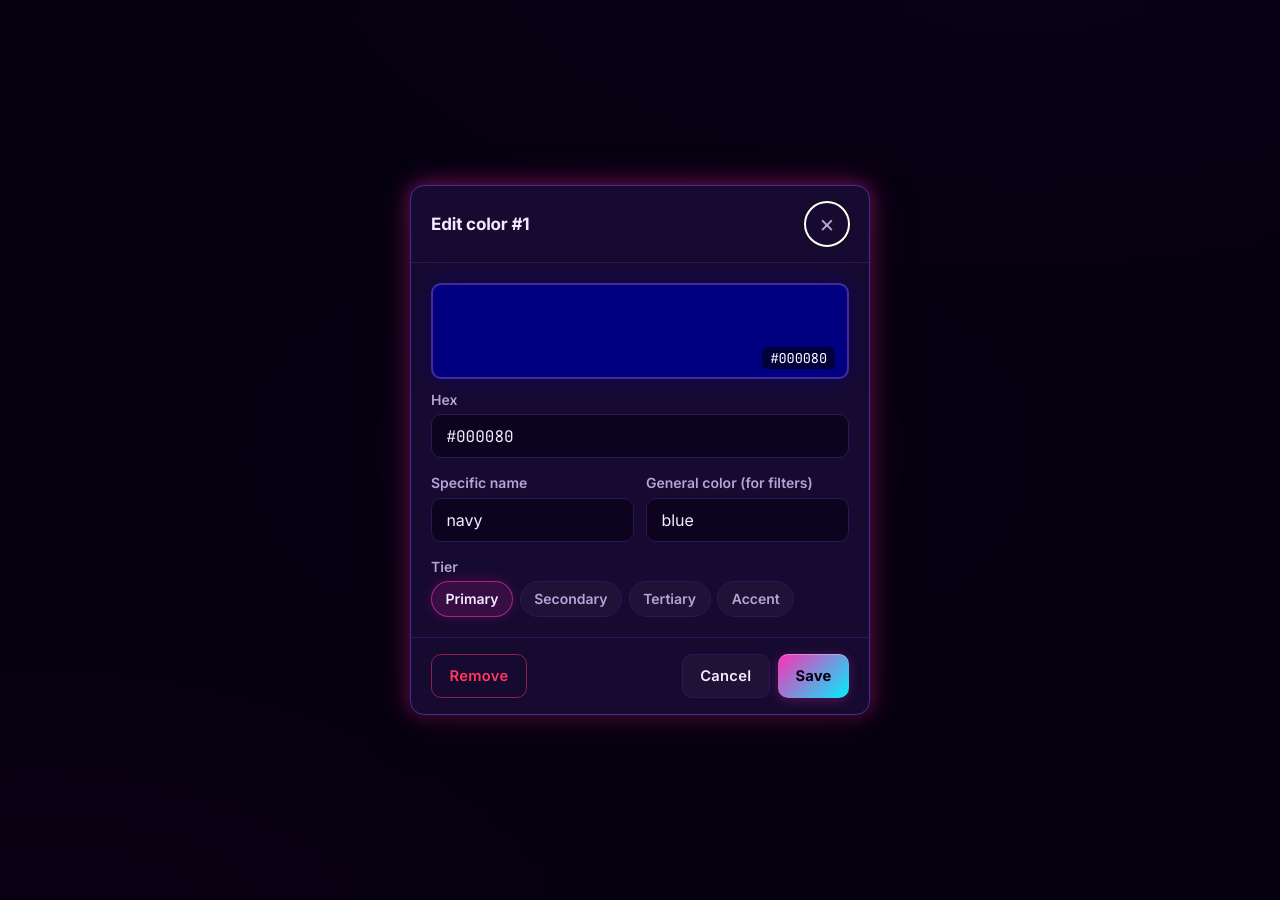
Test: ColorEditModal — remove › removes once confirmed, keeping the rest in order — their position is their rank
Click the button "Remove" at coordinates (479, 676), box [431, 654, 527, 698]
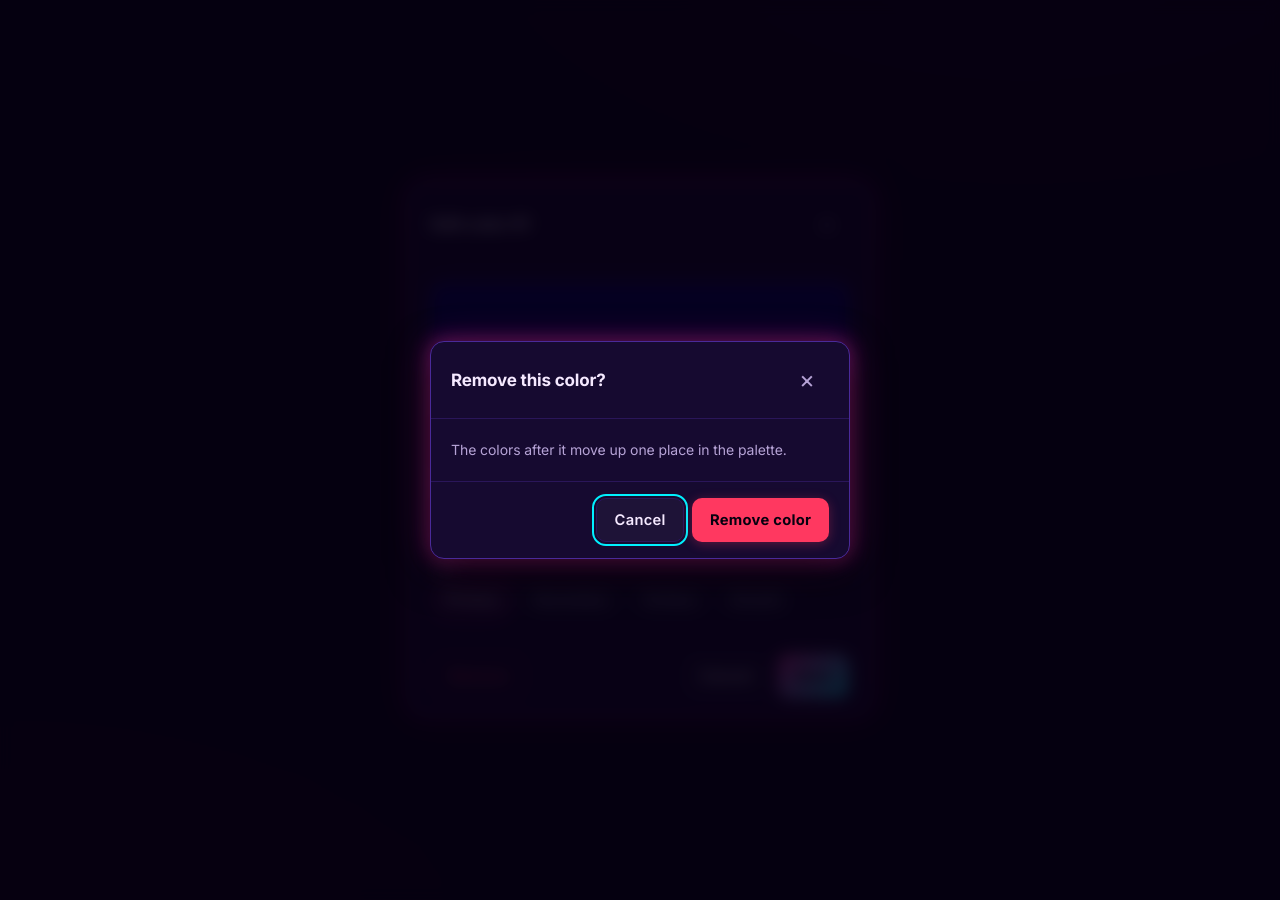
Click the button "Remove color" at coordinates (761, 520), box [692, 498, 829, 542]
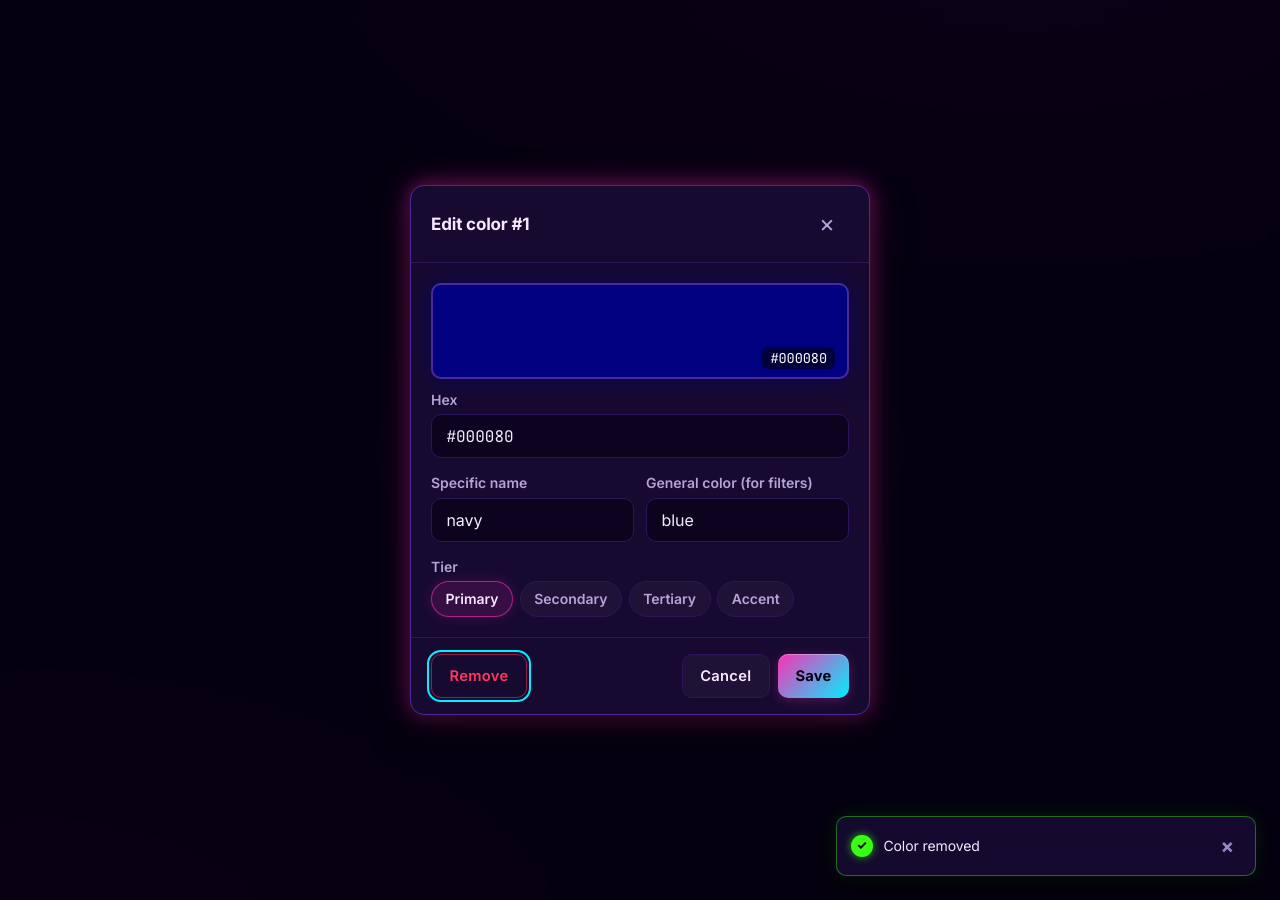
Now the text "Color removed" is shown, box [883, 837, 980, 854]
